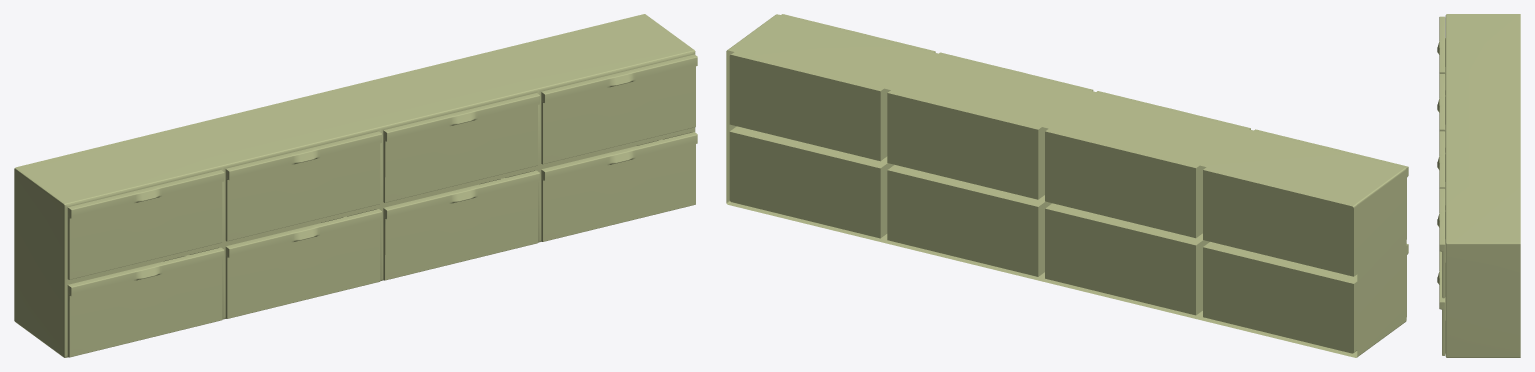
The model's file is overhead_shelf_final_A.fbx.
3 renders of one model, left to right at view 1: azimuth 30°, elevation 25°; view 2: azimuth 150°, elevation 25°; view 3: azimuth 270°, elevation 25°, orthographic. The views are drawn at different scales.
Visible parts, largest first — view 1: polySurface907; view 2: polySurface907; view 3: polySurface907.
Part boxes in pixels (bbox=[...]): polySurface907: bbox=[14, 14, 697, 357]; polySurface907: bbox=[726, 14, 1408, 357]; polySurface907: bbox=[1437, 14, 1520, 357].
Bounding box in the file's own units: 1.7 × 0.3972 × 0.2598.
